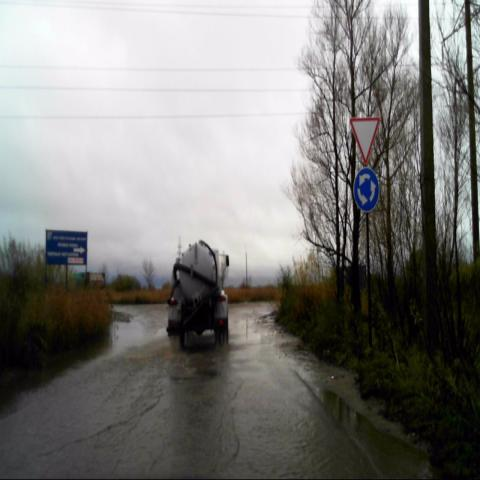4_3: (353, 167, 380, 214)
